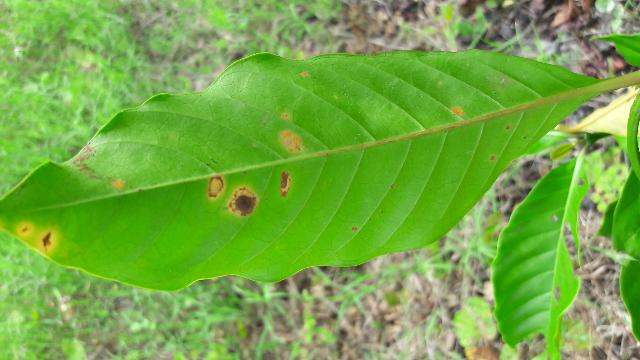rust_level_2: (5, 52, 594, 287)
